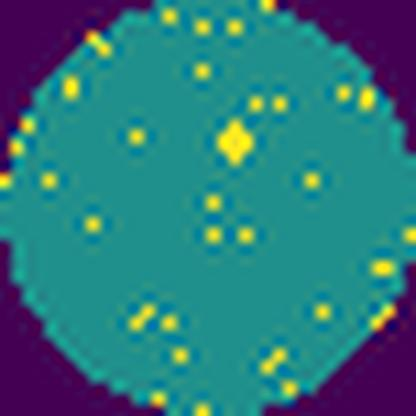Edge-Loc: (216, 119, 254, 168)
